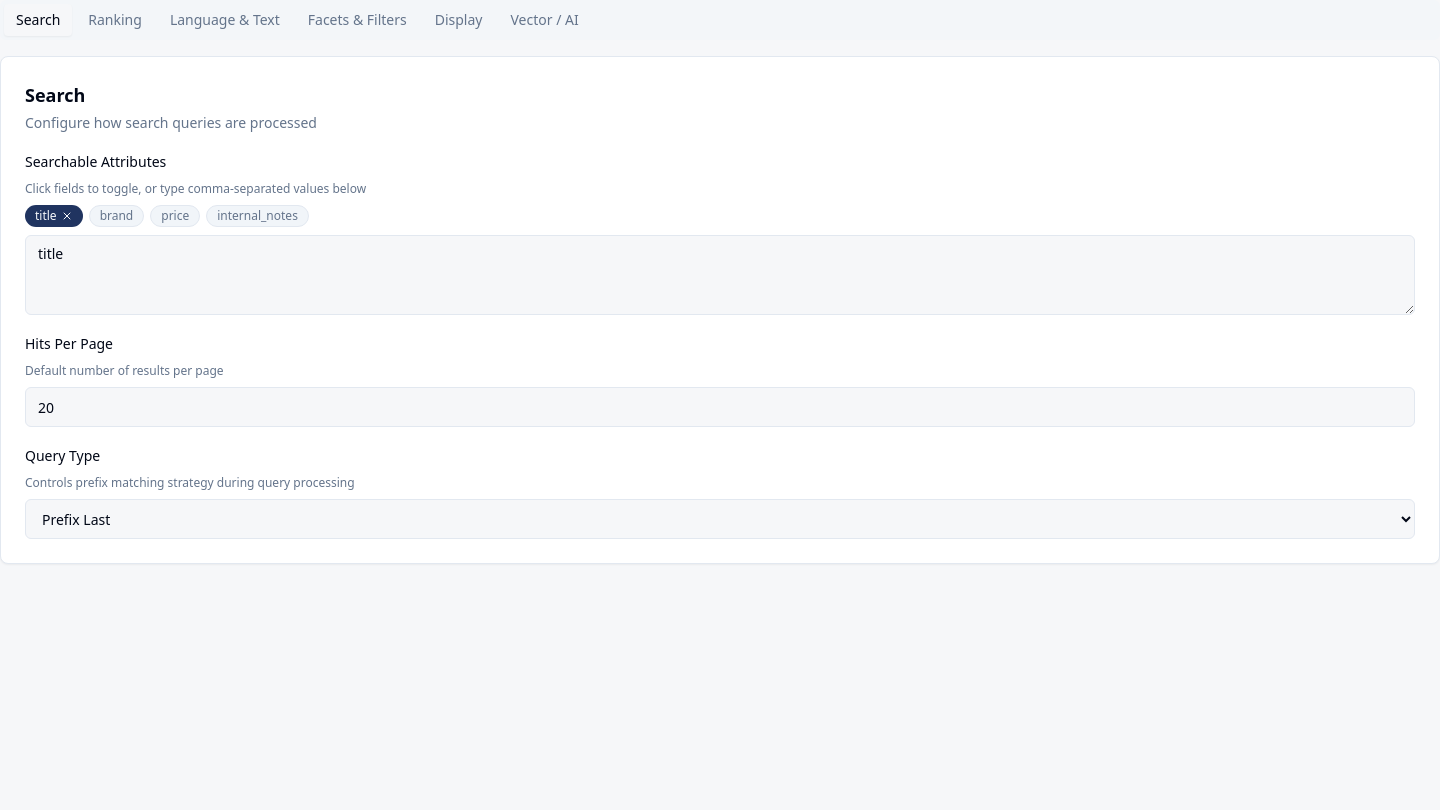
Test case: SettingsForm › switches tabs and renders expected section content
Click the tab "Ranking": x=115, y=20 [76,4,154,36]
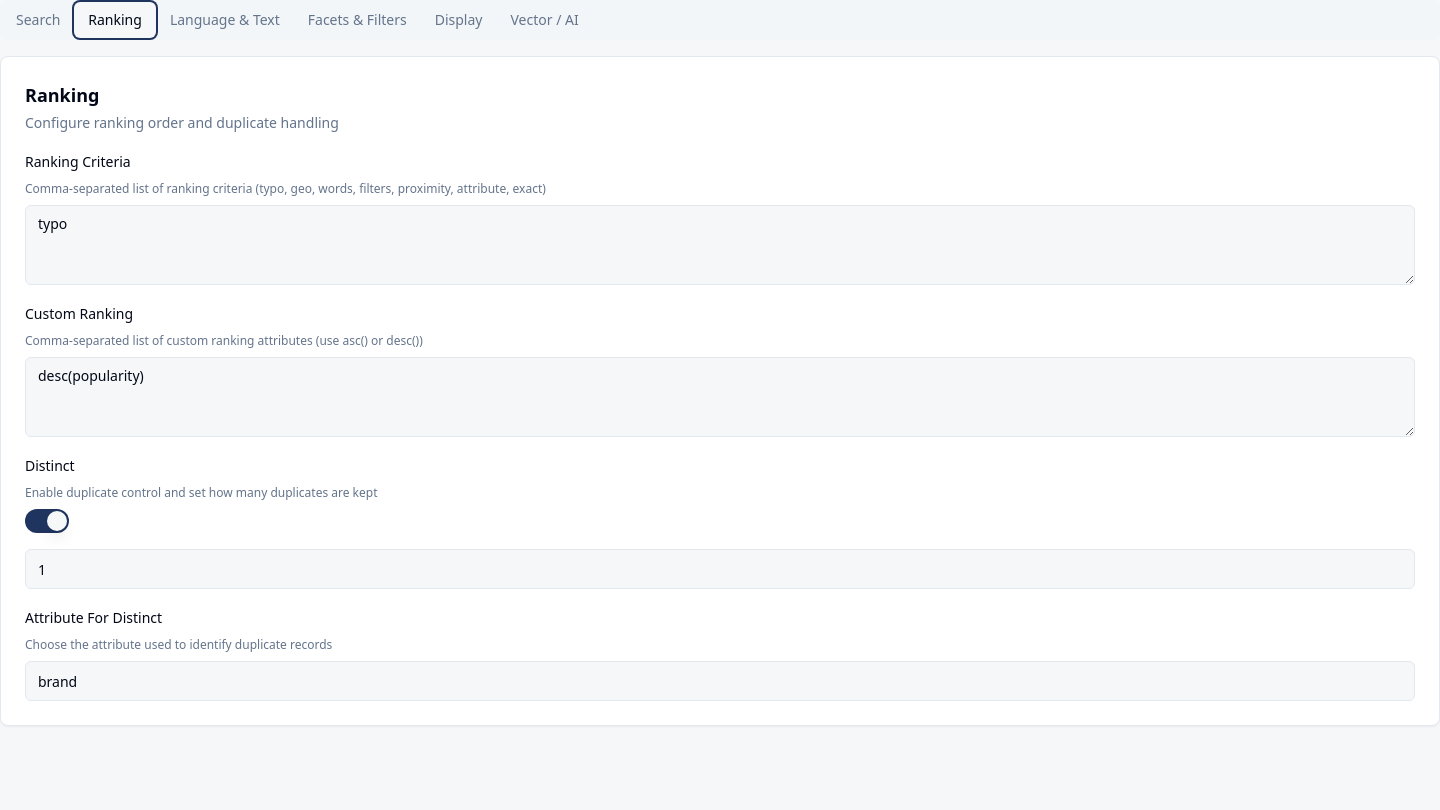
Now the text "Ranking Criteria" is shown, box [25,152,131,171]
Click the tab "Language & Text": x=225, y=20 [158,4,292,36]
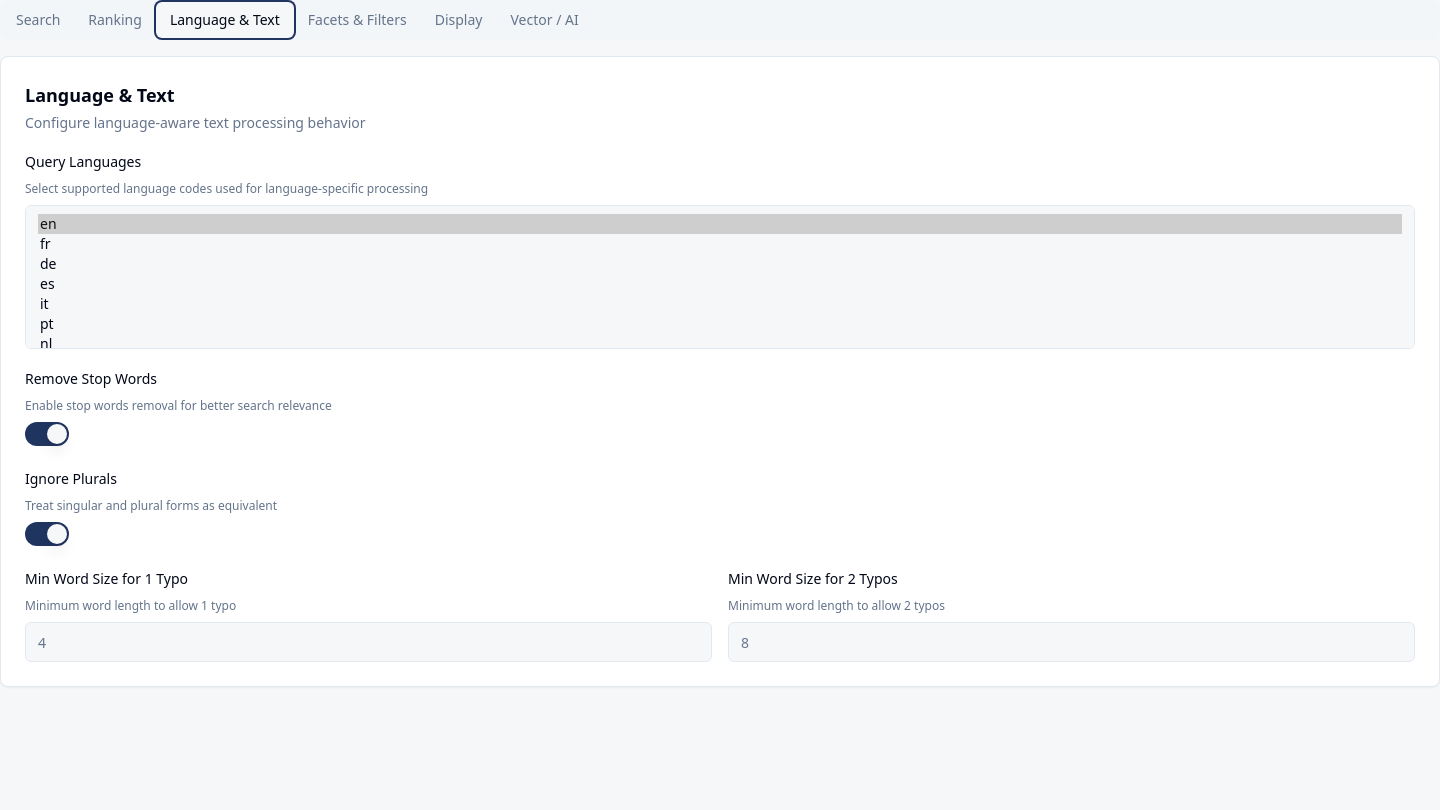
Now the dropdown with test id "query-languages-select" is shown, box [25,205,1415,349]
Click the tab "Facets & Filters": x=357, y=20 [296,4,419,36]
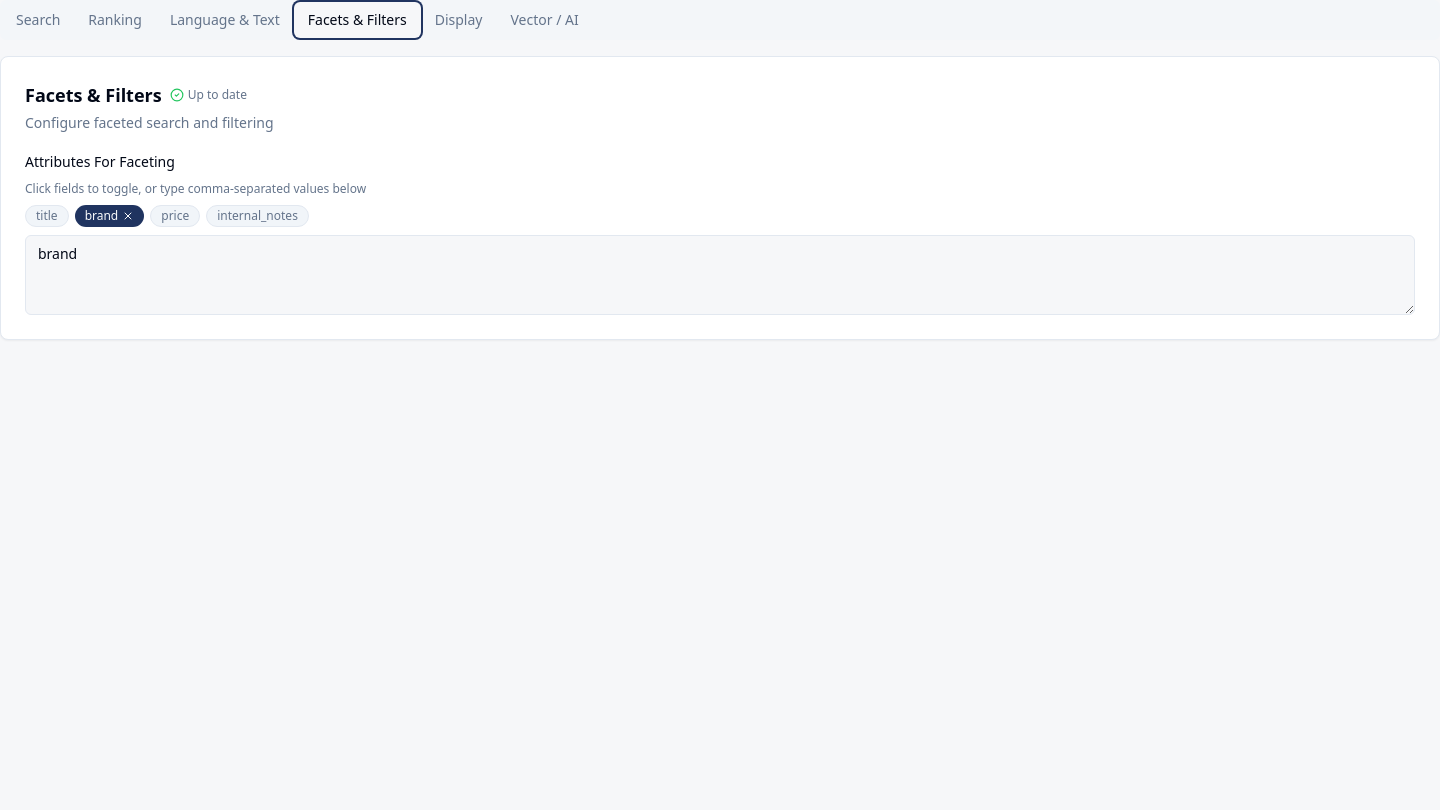
Now the text "Attributes For Faceting" is shown, box [25,152,175,171]
Click the tab "Display": x=459, y=20 [423,4,494,36]
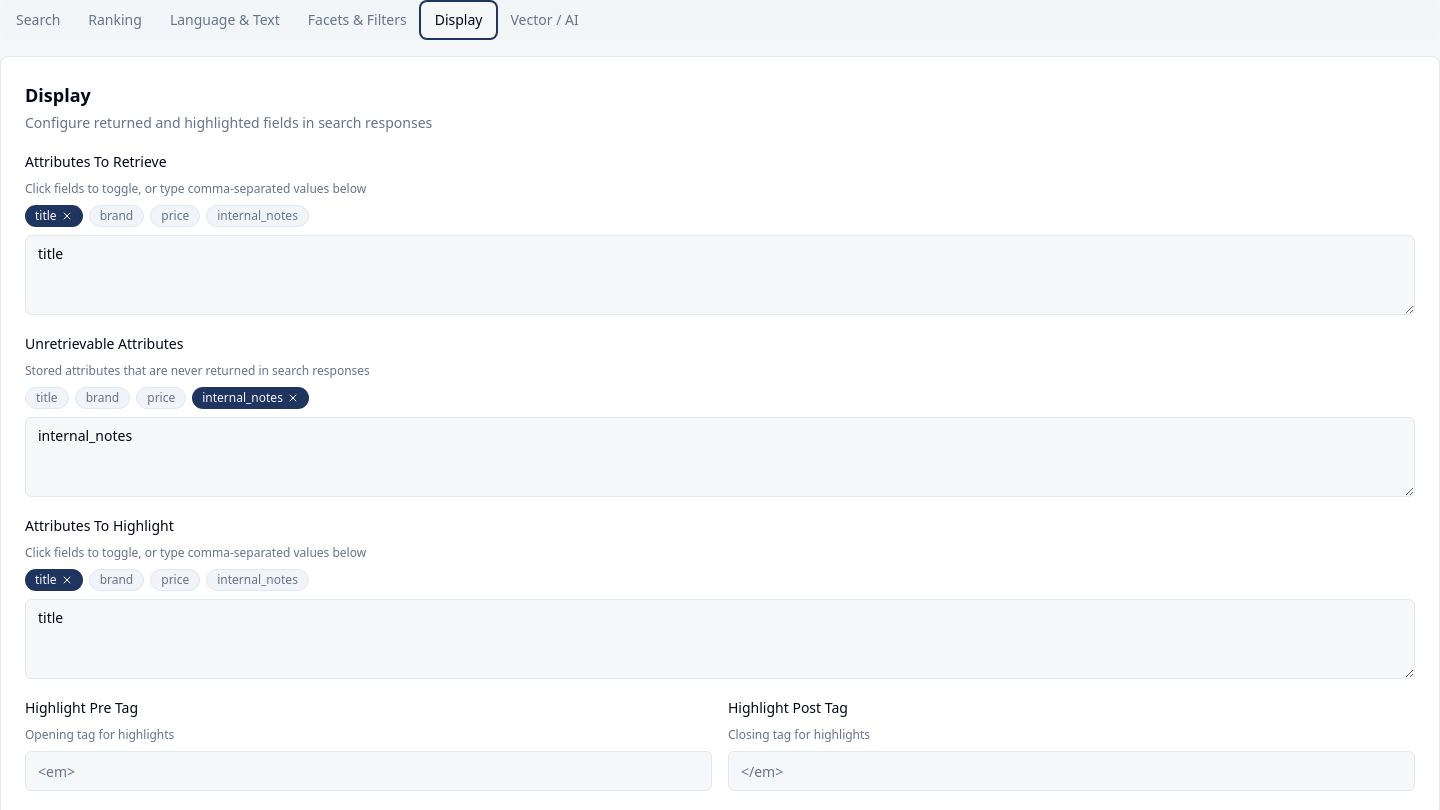
Now the text "Unretrievable Attributes" is shown, box [25,334,183,353]
Click the tab "Vector / AI": x=545, y=20 [498,4,591,36]
(page scrolled)
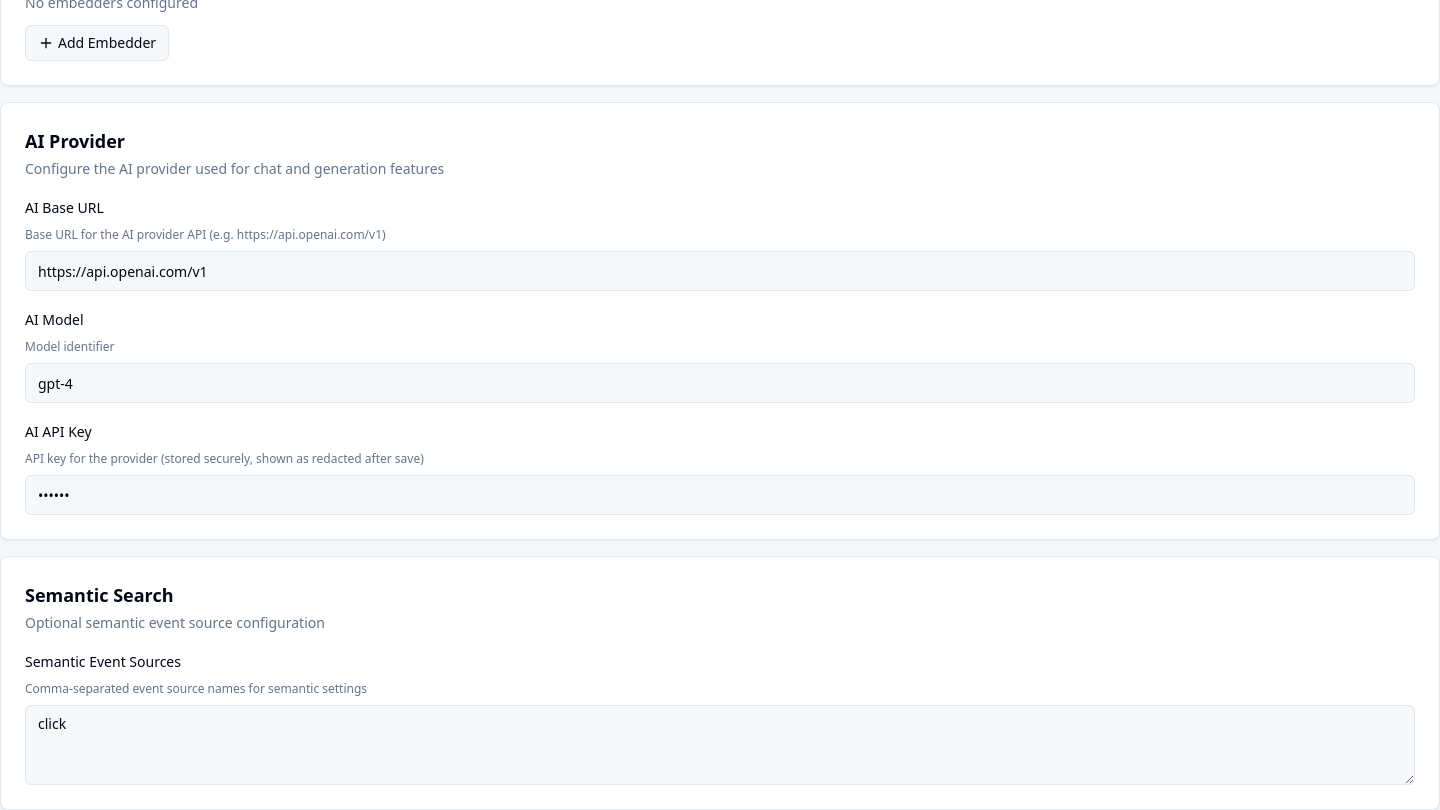
Now the heading "AI Provider" is shown, box [25,127,125,155]
Now the text box with placeholder "click, conversion" is shown, box [25,705,1415,785]
